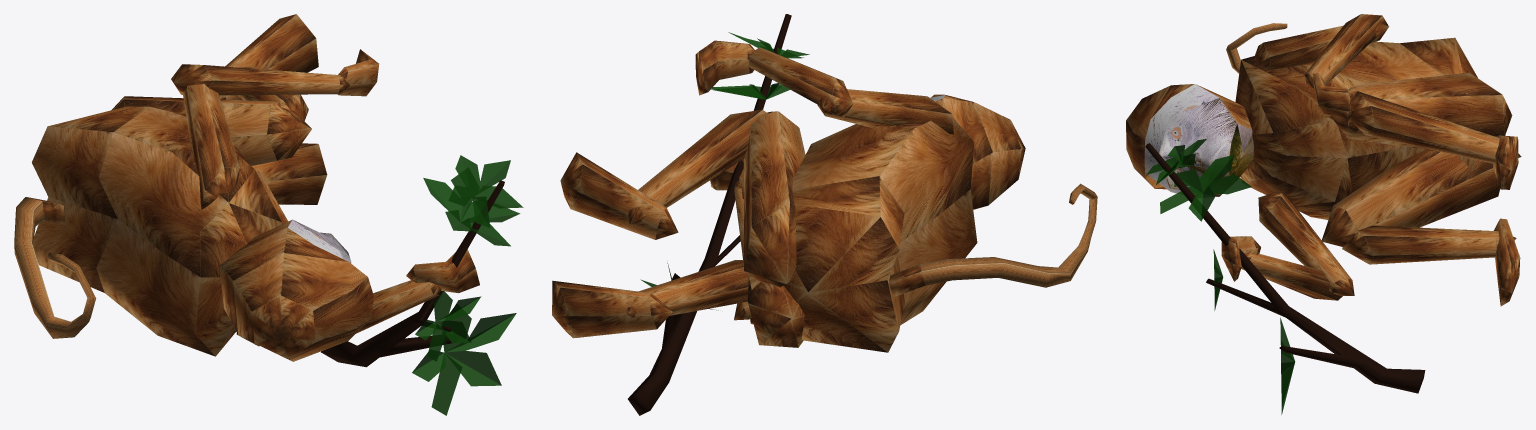
Rendered from monkey_000719.obj.
3 views of the same model, side by side, from view 1: azimuth 30°, elevation 25°; view 2: azimuth 150°, elevation 25°; view 3: azimuth 270°, elevation 25° (orthographic). The views are drawn at different scales.
Parts seen in each view (by area): view 1: Cylinder_Cylinder.001, head.002_Sphere.002, Cylinder.001_Cylinder.002, Cylinder.013_Cylinder, Cylinder.008_Cylinder.009, leaf1_Cylinder.019, Cylinder.009_Cylinder.011, branch_Cylinder.020, Cylinder.006_Cylinder.007, Cylinder.005_Cylinder.006, leaf4_Cylinder.023, leaf3_Cylinder.022 (+5 smaller); view 2: Cylinder_Cylinder.001, Cylinder.001_Cylinder.002, Cylinder.013_Cylinder, Cylinder.005_Cylinder.006, head.002_Sphere.002, Cylinder.004_Cylinder.005, Cylinder.006_Cylinder.007, branch_Cylinder.020, Cylinder.003_Cylinder.004, Cylinder.008_Cylinder.009, Cylinder.009_Cylinder.011, Cylinder.002_Cylinder.003 (+2 smaller); view 3: Cylinder_Cylinder.001, Cylinder.002_Cylinder.003, head.002_Sphere.002, Cylinder.001_Cylinder.002, branch_Cylinder.020, Cylinder.004_Cylinder.005, Cylinder.003_Cylinder.004, Cylinder.011_Cylinder.013, Cylinder.009_Cylinder.011, leaf3_Cylinder.022, Cylinder.008_Cylinder.009, Cylinder.010_Cylinder.012 (+7 smaller).
Part boxes in pixels (bbox=[...]): Cylinder_Cylinder.001: bbox=[32, 97, 281, 356]; head.002_Sphere.002: bbox=[219, 219, 373, 361]; Cylinder.001_Cylinder.002: bbox=[111, 96, 311, 165]; Cylinder.013_Cylinder: bbox=[14, 197, 96, 338]; Cylinder.008_Cylinder.009: bbox=[183, 84, 239, 209]; leaf1_Cylinder.019: bbox=[412, 308, 516, 415]; Cylinder.009_Cylinder.011: bbox=[171, 64, 349, 95]; branch_Cylinder.020: bbox=[321, 180, 504, 367]; Cylinder.006_Cylinder.007: bbox=[219, 14, 318, 100]; Cylinder.005_Cylinder.006: bbox=[251, 143, 327, 204]; leaf4_Cylinder.023: bbox=[448, 155, 523, 227]; leaf3_Cylinder.022: bbox=[423, 174, 520, 246]; Cylinder_Cylinder.001: bbox=[748, 117, 977, 352]; Cylinder.001_Cylinder.002: bbox=[744, 111, 805, 287]; Cylinder.013_Cylinder: bbox=[888, 183, 1097, 297]; Cylinder.005_Cylinder.006: bbox=[552, 280, 672, 338]; head.002_Sphere.002: bbox=[930, 94, 1025, 209]; Cylinder.004_Cylinder.005: bbox=[627, 109, 767, 224]; Cylinder.006_Cylinder.007: bbox=[560, 152, 678, 239]; branch_Cylinder.020: bbox=[628, 14, 791, 415]; Cylinder.003_Cylinder.004: bbox=[626, 260, 748, 317]; Cylinder.008_Cylinder.009: bbox=[817, 89, 953, 134]; Cylinder.009_Cylinder.011: bbox=[748, 47, 852, 117]; Cylinder.002_Cylinder.003: bbox=[748, 275, 804, 347]; Cylinder_Cylinder.001: bbox=[1235, 37, 1477, 219]; Cylinder.002_Cylinder.003: bbox=[1321, 150, 1500, 246]; head.002_Sphere.002: bbox=[1126, 84, 1254, 196]; Cylinder.001_Cylinder.002: bbox=[1333, 72, 1512, 151]; branch_Cylinder.020: bbox=[1145, 143, 1425, 393]; Cylinder.004_Cylinder.005: bbox=[1350, 91, 1521, 163]; Cylinder.003_Cylinder.004: bbox=[1342, 225, 1516, 264]; Cylinder.011_Cylinder.013: bbox=[1258, 192, 1354, 295]; Cylinder.009_Cylinder.011: bbox=[1304, 14, 1388, 88]; leaf3_Cylinder.022: bbox=[1160, 155, 1251, 221]; Cylinder.008_Cylinder.009: bbox=[1254, 23, 1389, 69]; Cylinder.010_Cylinder.012: bbox=[1241, 252, 1342, 300].
Size of the model in its own units: 1.53 by 1.14 by 1.31.
